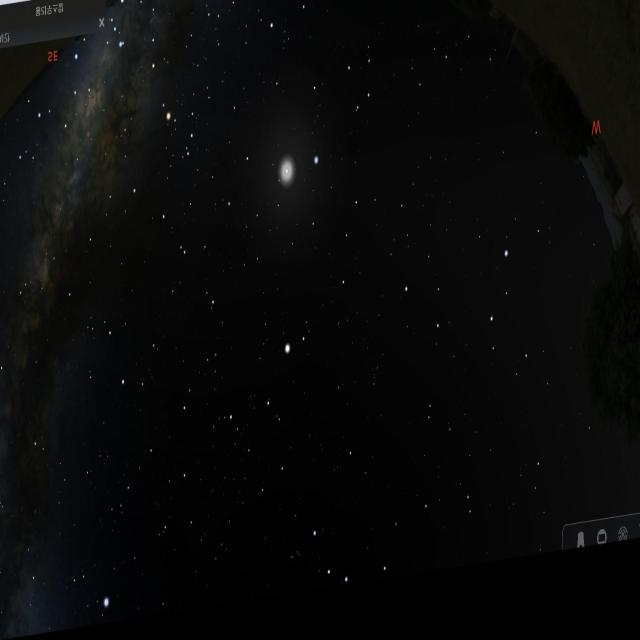bootes: (241, 327, 320, 506)
leo: (394, 228, 534, 417)
lyra: (67, 558, 116, 622)
moon: (263, 136, 305, 236)
scorpius: (107, 0, 202, 191)
